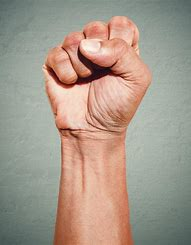closed: (41, 14, 152, 133)
